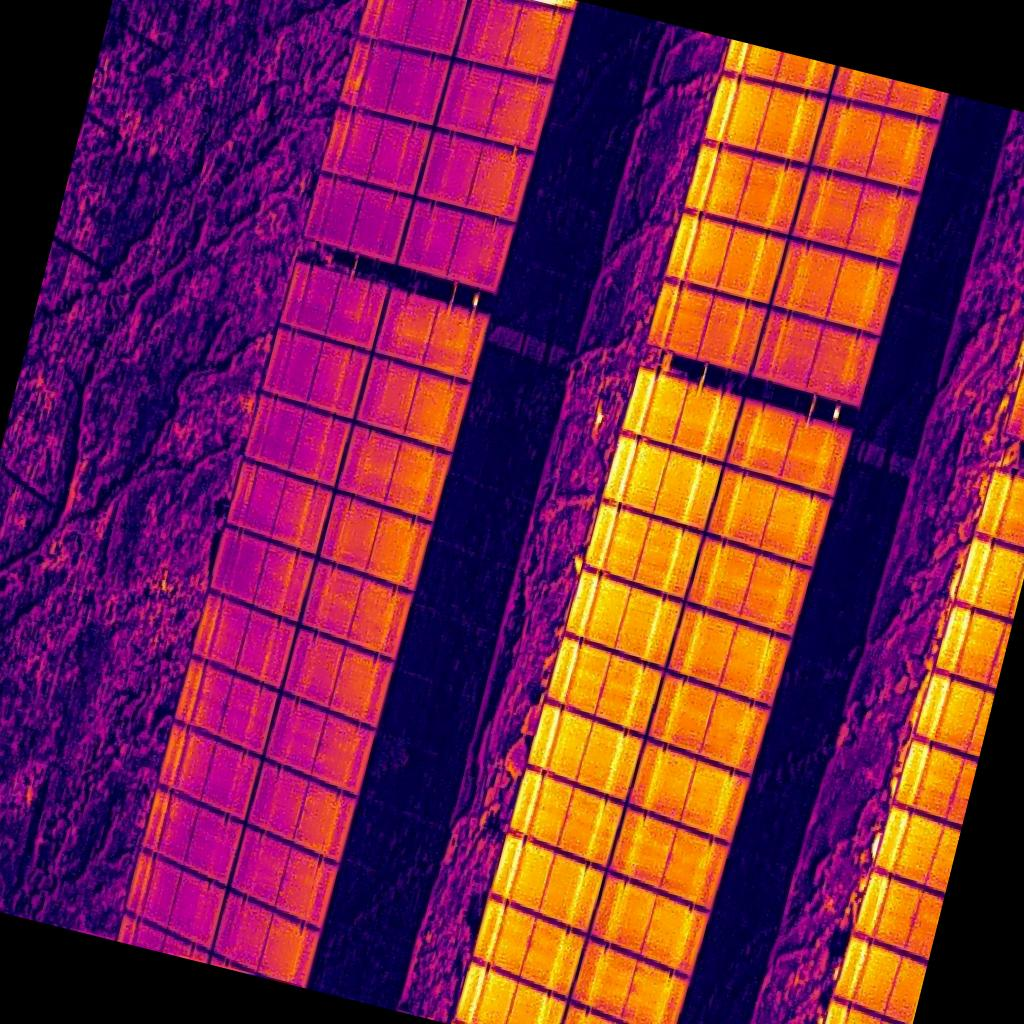panel: (649, 672, 768, 776), (509, 762, 622, 867), (665, 210, 788, 300), (302, 168, 414, 262), (157, 721, 261, 819)
